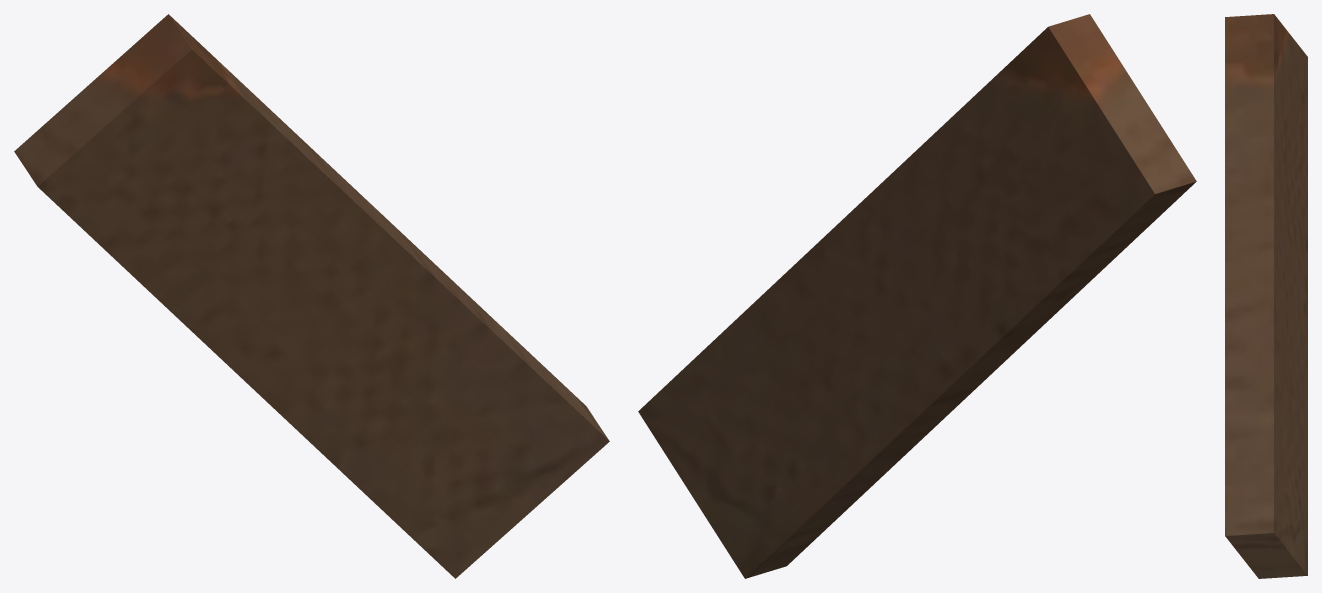
Rendered from fan_center__blade_7.glb.
3 renders of one model, left to right at view 1: azimuth 30°, elevation 25°; view 2: azimuth 150°, elevation 25°; view 3: azimuth 270°, elevation 25°, orthographic. The views are drawn at different scales.
Parts seen in each view (by area): view 1: geometry_0; view 2: geometry_0; view 3: geometry_0.
Part boxes in pixels (x1,y1,x2,y2): geometry_0: (14, 14, 609, 578); geometry_0: (638, 14, 1196, 578); geometry_0: (1225, 14, 1307, 578).
Bounding box in the file's own units: 0.0248 × 0.0265 × 0.00428.
1 material, 1 textured.
